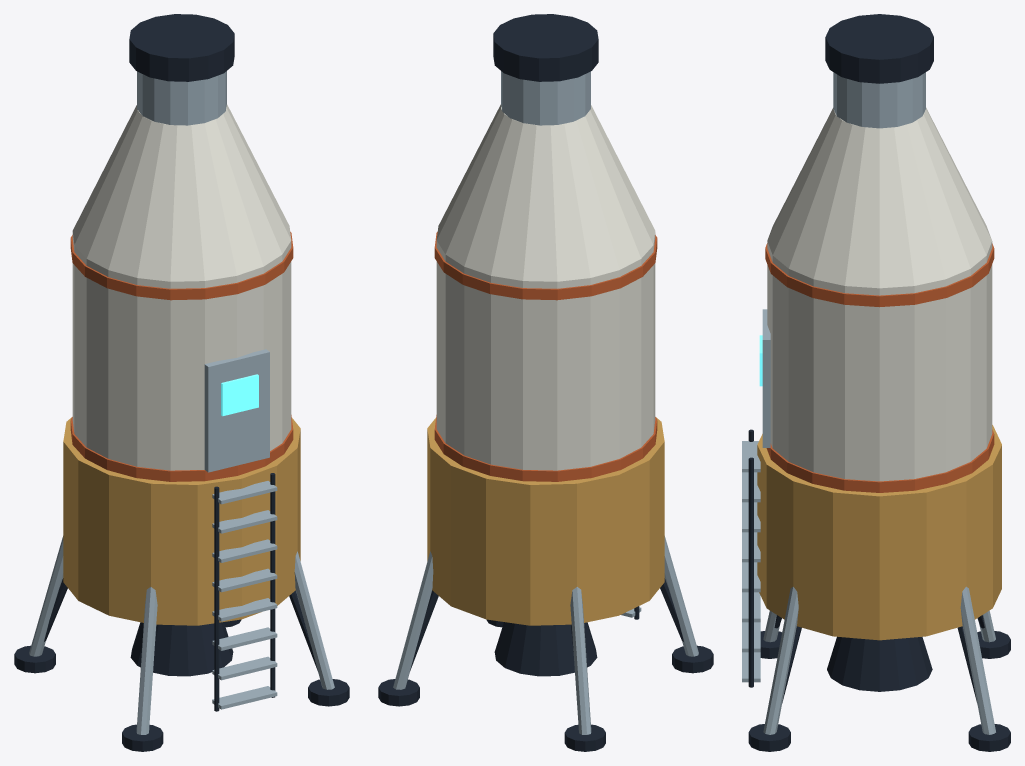
Rendered from lander.glb.
The picture shows the model from 3 angles, left to right: view 1: azimuth 30°, elevation 25°; view 2: azimuth 150°, elevation 25°; view 3: azimuth 270°, elevation 25°; orthographic projection. The views are drawn at different scales.
Parts seen in each view (by area): view 1: lander; view 2: lander; view 3: lander.
Part boxes in pixels (x1,y1,x2,y2): lander: (14,14,349,751); lander: (378,14,713,751); lander: (742,14,1010,751).
Bounding box in the file's own units: 3.96 × 11 × 4.06.
